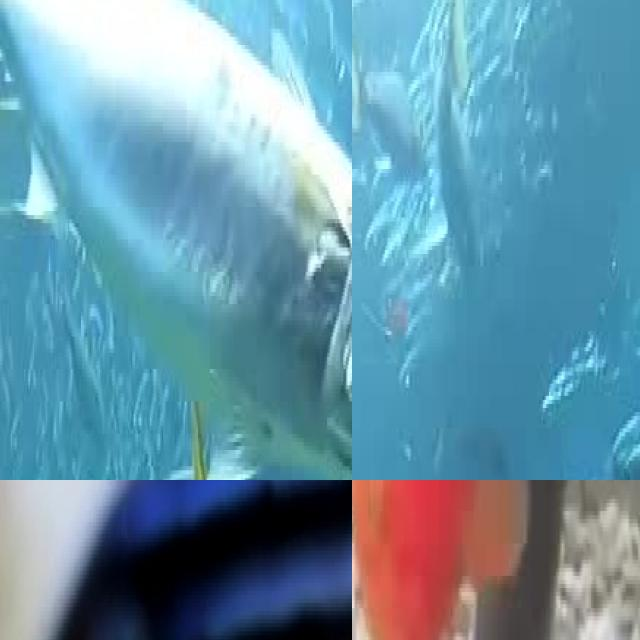fish: (0, 0, 352, 480), (37, 480, 352, 640)
